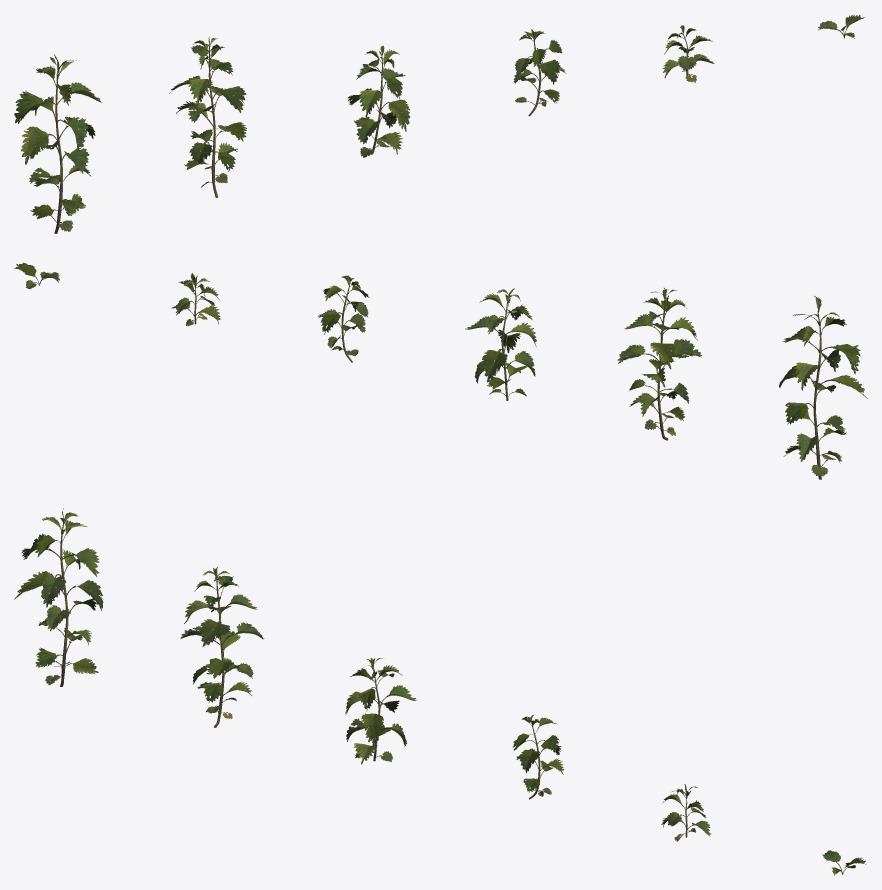
File: nettle.glb
3 renders of one model, top to bottom at view 1: azimuth 30°, elevation 25°; view 2: azimuth 150°, elevation 25°; view 3: azimuth 330°, elevation 25°, orthographic.
Visible parts, largest first — view 1: nettle_plant_tall_a_LOD0, nettle_plant_tall_b_LOD0, nettle_plant_medium_a_LOD0, nettle_plant_medium_b_LOD0, nettle_plant_small_a_LOD0; view 2: nettle_plant_tall_a_LOD0, nettle_plant_tall_b_LOD0, nettle_plant_medium_a_LOD0, nettle_plant_medium_b_LOD0, nettle_plant_small_a_LOD0; view 3: nettle_plant_tall_a_LOD0, nettle_plant_tall_b_LOD0, nettle_plant_medium_a_LOD0, nettle_plant_medium_b_LOD0, nettle_plant_small_a_LOD0.
Part boxes in pixels (x1=…): nettle_plant_tall_a_LOD0: x1=14, y1=54, x2=101, y2=233; nettle_plant_tall_b_LOD0: x1=169, y1=36, x2=246, y2=197; nettle_plant_medium_a_LOD0: x1=347, y1=45, x2=410, y2=157; nettle_plant_medium_b_LOD0: x1=513, y1=29, x2=566, y2=116; nettle_plant_small_a_LOD0: x1=662, y1=25, x2=714, y2=82; nettle_plant_tall_a_LOD0: x1=779, y1=296, x2=867, y2=479; nettle_plant_tall_b_LOD0: x1=617, y1=288, x2=701, y2=440; nettle_plant_medium_a_LOD0: x1=465, y1=288, x2=536, y2=400; nettle_plant_medium_b_LOD0: x1=318, y1=275, x2=369, y2=362; nettle_plant_small_a_LOD0: x1=171, y1=273, x2=220, y2=325; nettle_plant_tall_a_LOD0: x1=14, y1=508, x2=103, y2=686; nettle_plant_tall_b_LOD0: x1=180, y1=567, x2=264, y2=727; nettle_plant_medium_a_LOD0: x1=345, y1=658, x2=416, y2=764; nettle_plant_medium_b_LOD0: x1=512, y1=714, x2=564, y2=799; nettle_plant_small_a_LOD0: x1=661, y1=784, x2=710, y2=841.
Bounding box in the file's own units: 1.08 × 0.2184 × 0.0947.
Materials: 1 (1 with a texture image).
